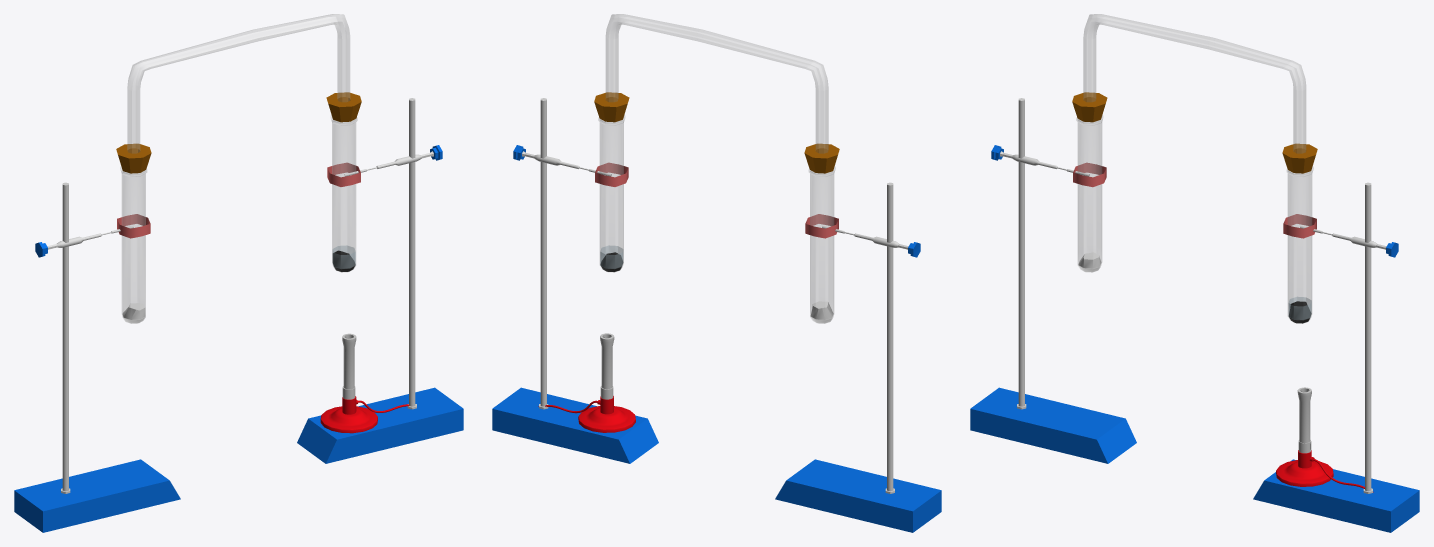
The model's file is bleaching_powder.fbx.
The picture shows the model from 3 angles, left to right: view 1: azimuth 30°, elevation 25°; view 2: azimuth 150°, elevation 25°; view 3: azimuth 330°, elevation 25°; orthographic projection.
Visible parts, largest first — view 1: pCube1 (×2), polySurface33 (×2), pCylinder1 (×2), bunsen_burner, polySurface125, polySurface2 (×2), pCylinder2; view 2: pCube1 (×2), polySurface33 (×2), pCylinder1 (×2), bunsen_burner, polySurface125, polySurface2 (×2), pCylinder2; view 3: pCube1 (×2), polySurface33 (×2), pCylinder1 (×2), bunsen_burner, polySurface125, polySurface2 (×2), pCylinder2.
Part boxes in pixels (x1,y1,x2,y2): pCube1 (×2): (14,387,463,532); polySurface33 (×2): (116,30,361,323); pCylinder1 (×2): (61,98,416,493); bunsen_burner: (320,333,409,433); polySurface125: (253,14,349,101); polySurface2 (×2): (117,162,360,238); pCylinder2: (344,145,442,176); pCube1 (×2): (492,387,941,532); polySurface33 (×2): (594,30,839,323); pCylinder1 (×2): (539,98,894,493); bunsen_burner: (538,333,635,432); polySurface125: (606,14,702,101); polySurface2 (×2): (595,162,838,238); pCylinder2: (513,145,611,176); pCube1 (×2): (970,387,1419,532); polySurface33 (×2): (1072,14,1317,323); pCylinder1 (×2): (1017,98,1372,493); bunsen_burner: (1276,387,1373,492); polySurface125: (1208,38,1305,153); polySurface2 (×2): (1073,162,1316,238); pCylinder2: (991,145,1089,176).
Bounding box in the file's own units: 132 × 131 × 15.84.
